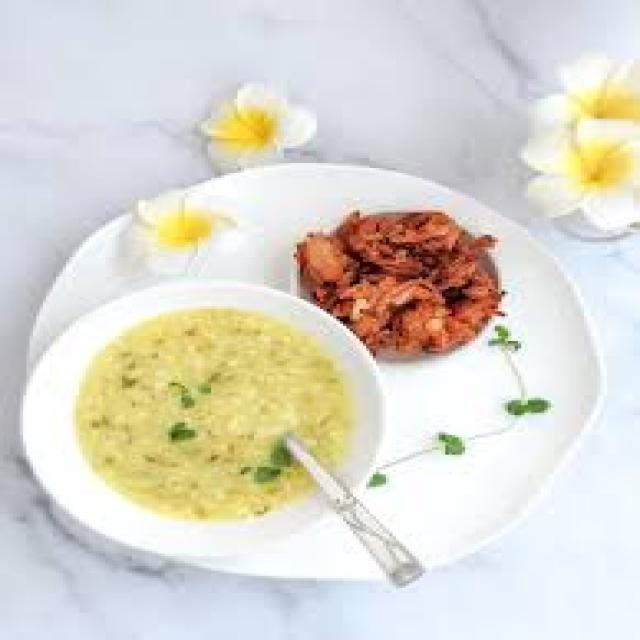BAJI: (294, 203, 512, 359)
